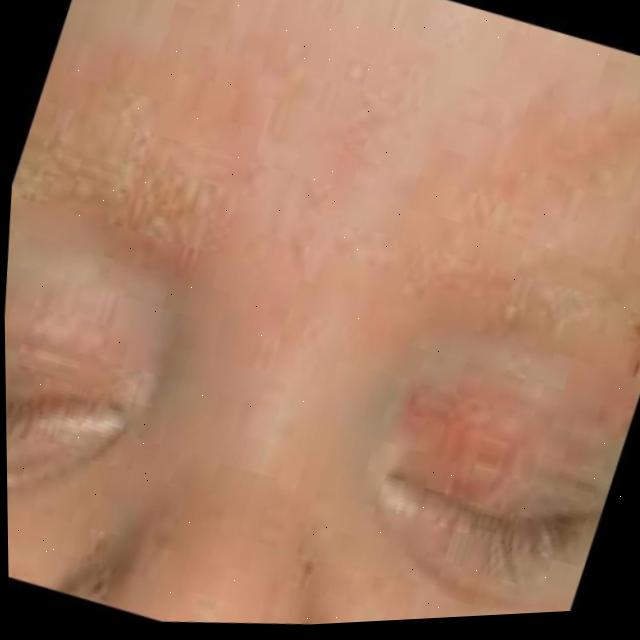Eczema: (401, 189, 619, 368), (64, 76, 203, 228), (419, 377, 529, 453)
